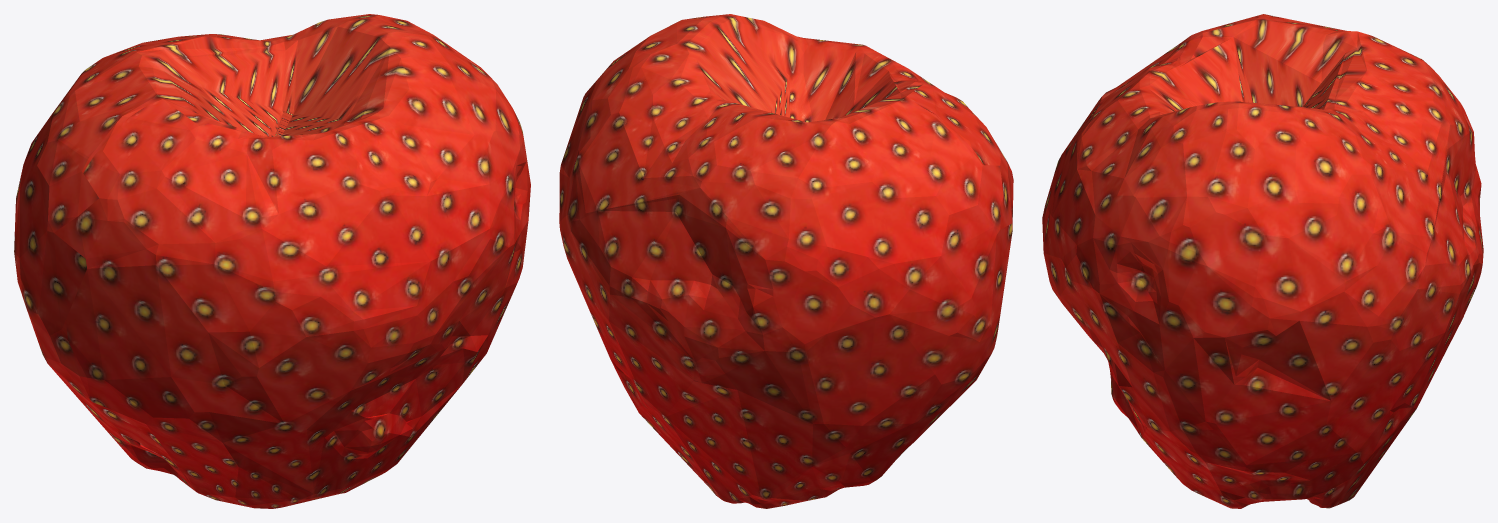
3 renders of one model, left to right at view 1: azimuth 30°, elevation 25°; view 2: azimuth 150°, elevation 25°; view 3: azimuth 270°, elevation 25°, orthographic. The views are drawn at different scales.
Parts seen in each view (by area): view 1: _002_Meshed; view 2: _002_Meshed; view 3: _002_Meshed.
Boxes of the visible parts, x1,y1,x2,y2 form: _002_Meshed: (14,14,530,508); _002_Meshed: (559,14,1013,508); _002_Meshed: (1042,14,1483,508).
Bounding box in the file's own units: 0.1 × 0.0879 × 0.0956.
1 material, 1 textured.
